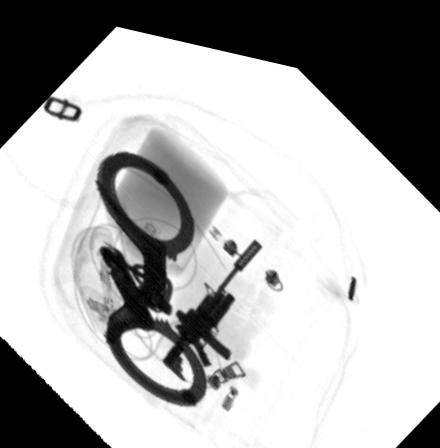Gun: (160, 223, 265, 377)
HandCuffs: (95, 144, 209, 397)
